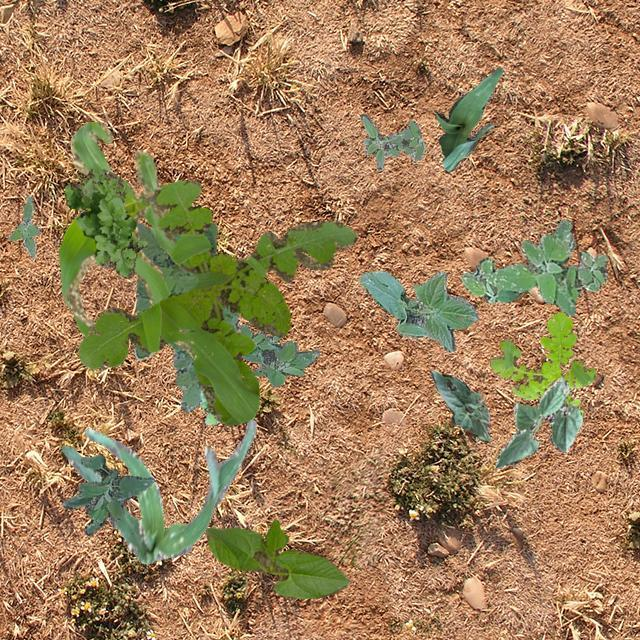crop: (58, 120, 198, 360), (61, 418, 256, 564), (204, 518, 348, 598), (358, 270, 478, 350), (494, 377, 582, 468), (433, 66, 502, 172), (430, 369, 490, 442)
weed: (76, 180, 356, 423), (132, 220, 238, 412), (459, 218, 606, 314), (488, 312, 594, 406), (64, 168, 146, 276), (62, 454, 154, 534), (240, 324, 318, 386), (360, 112, 424, 168), (8, 194, 40, 256), (198, 389, 218, 424)
